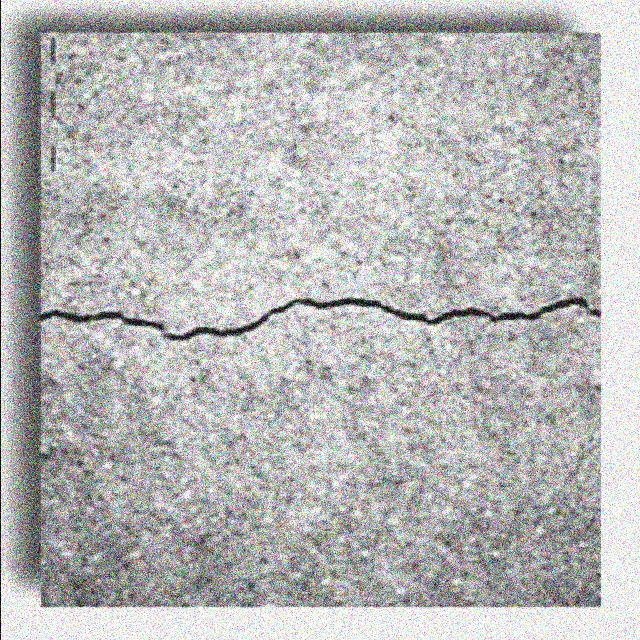SurfaceCrack: (40, 251, 600, 378)
